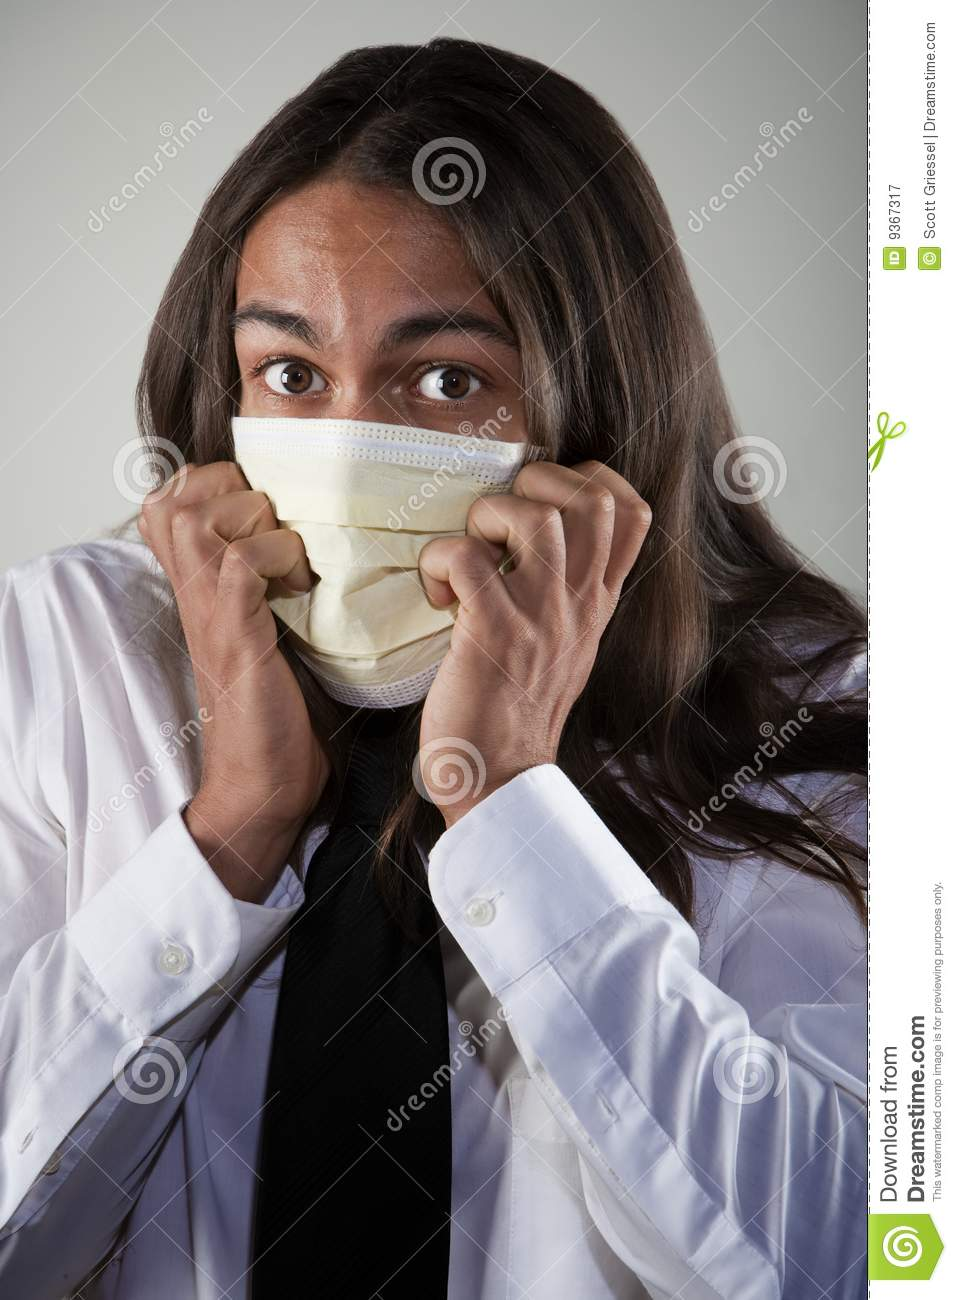mask: (226, 411, 557, 718)
